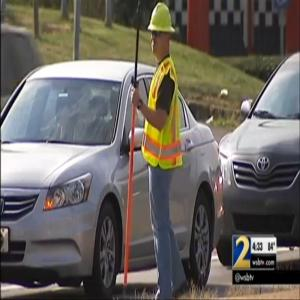yellow: (149, 3, 174, 60)
